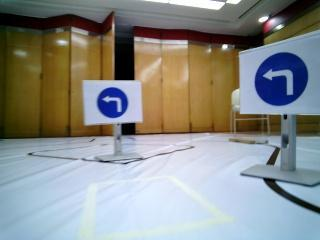left: (239, 53, 320, 112), (85, 81, 142, 122)
